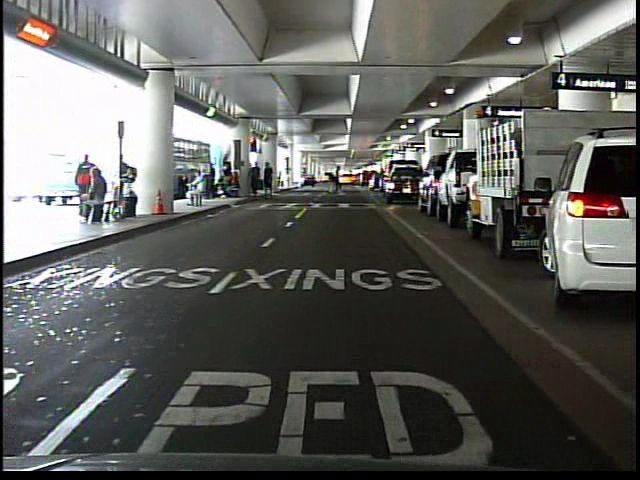person: (184, 171, 209, 208), (324, 163, 346, 195)
